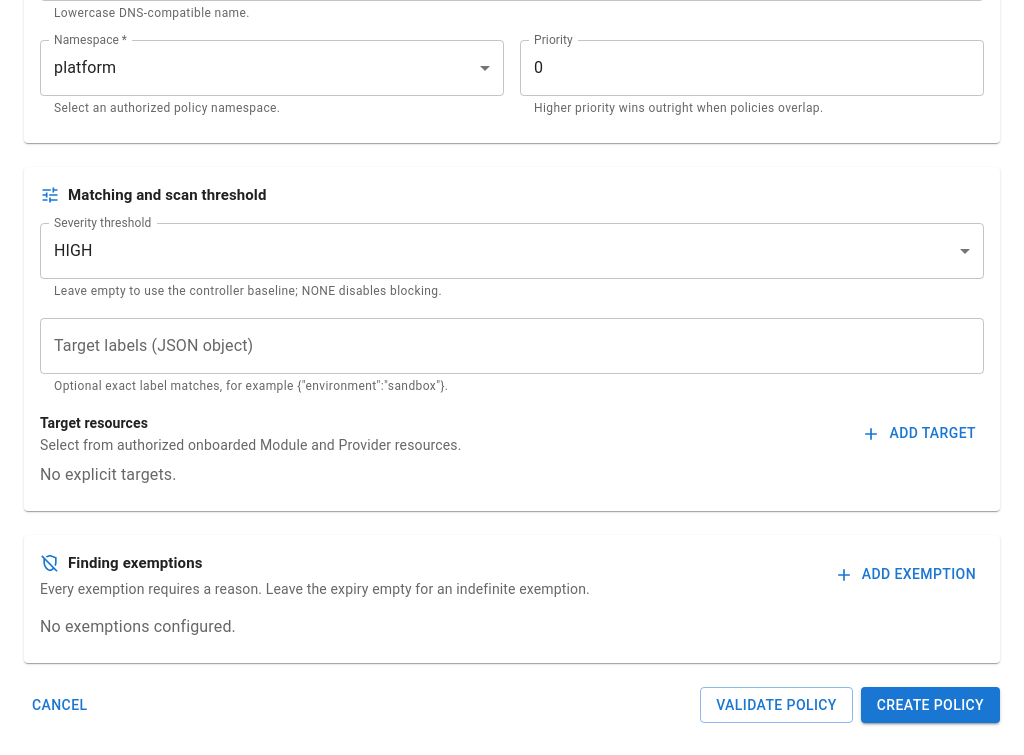
Test: SecurityPoliciesSurface › shows invalid validation results and dismisses the alert
This screenshot has width=1024, height=755.
(page scrolled)
Click the button "Validate policy" at (776, 705), box 700,687 -> 853,723
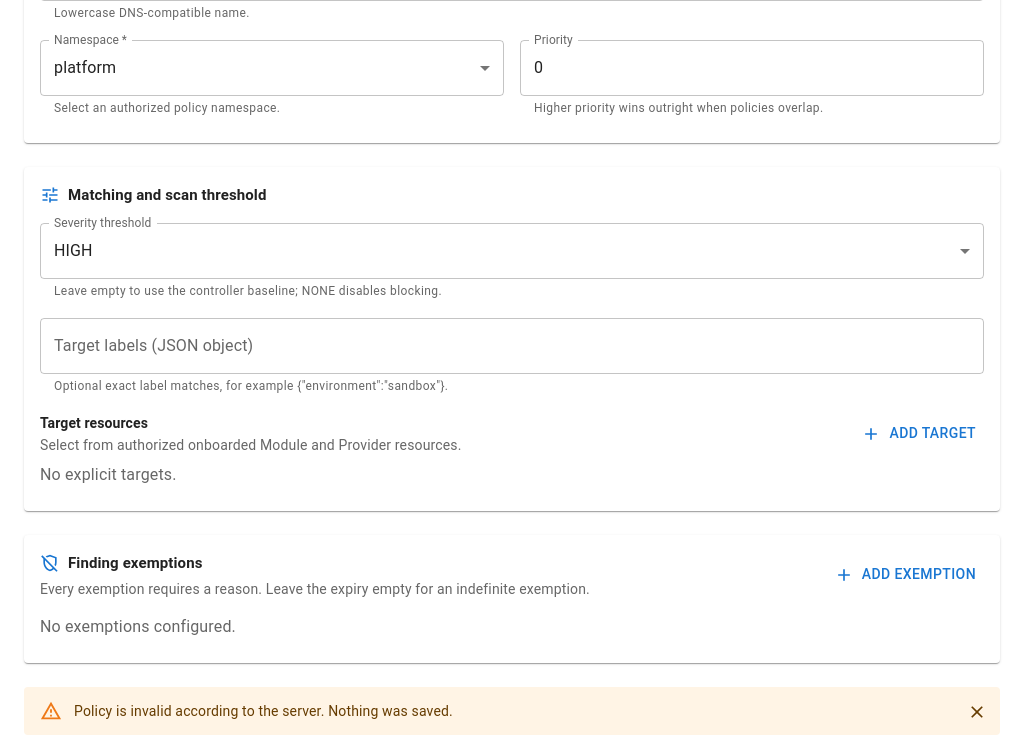
Expected: the text "Policy is invalid according to the server. Nothing was saved." is shown, 74,703 -> 453,719
Click the button named "Close" at (977, 712), box 962,697 -> 992,727
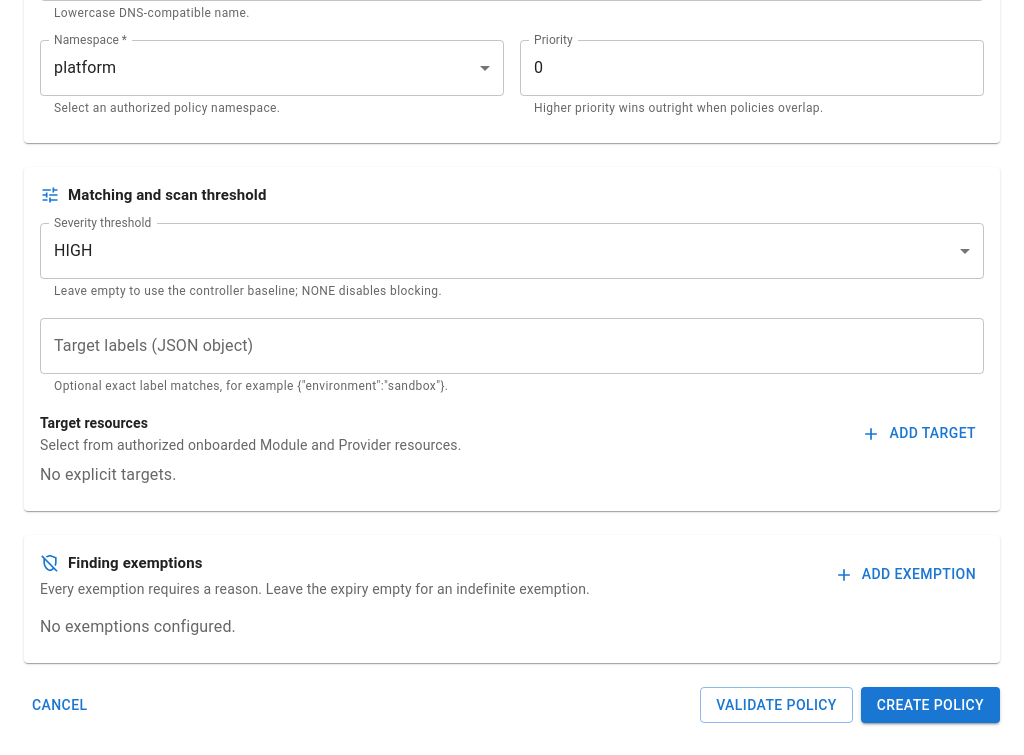
Expected: the text "Policy is invalid according to the server. Nothing was saved." is gone
